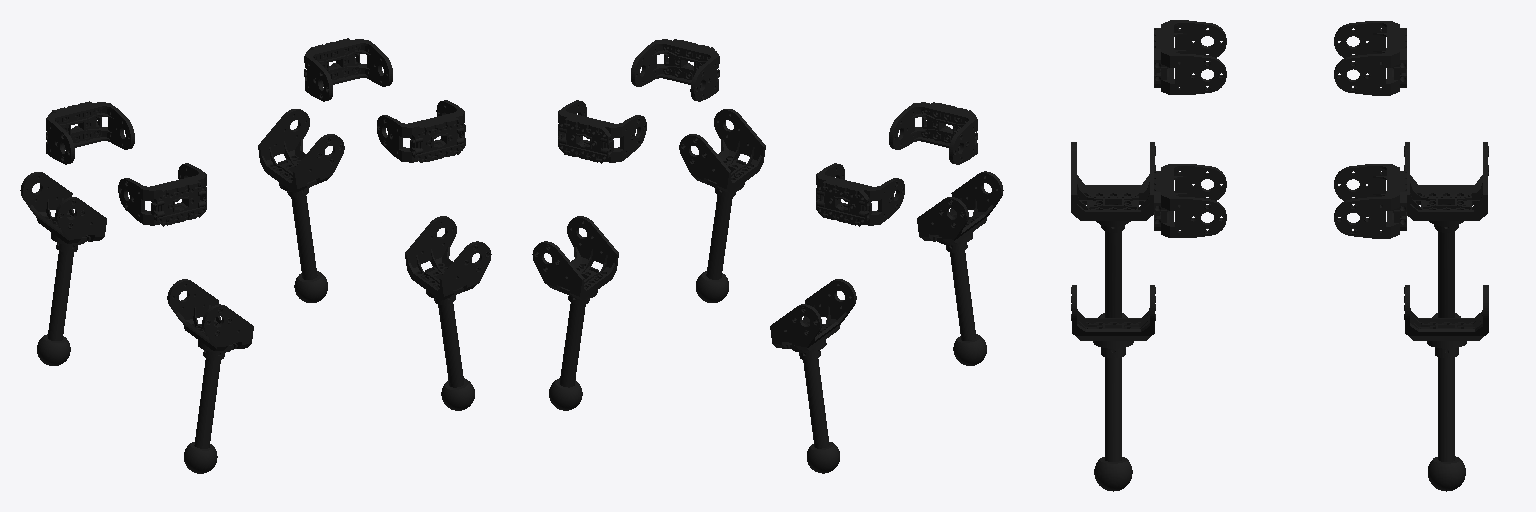
--- Render facts (derived) ---
Views: 3 orthographic renders of the robot side by side, from view 1: azimuth 30°, elevation 25°; view 2: azimuth 150°, elevation 25°; view 3: azimuth 270°, elevation 25°.
Model oped with 23 links and 22 joints (12 revolute, 10 fixed), rooted at base_link, posed every joint at zero.
Visible links, largest first — view 1: rf_lower_leg_link, lf_lower_leg_link, rh_lower_leg_link, lh_lower_leg_link, lh_hip_link, rh_hip_link, rf_hip_link, lf_hip_link; view 2: lf_lower_leg_link, rf_lower_leg_link, rh_lower_leg_link, lh_lower_leg_link, lh_hip_link, lf_hip_link, rh_hip_link, rf_hip_link; view 3: lf_lower_leg_link, rf_lower_leg_link, rh_lower_leg_link, lh_lower_leg_link, lh_hip_link, lf_hip_link, rh_hip_link, rf_hip_link.
Link boxes in pixels (bbox=[...]): rf_lower_leg_link: bbox=[405, 216, 491, 410]; lf_lower_leg_link: bbox=[258, 109, 344, 302]; rh_lower_leg_link: bbox=[167, 279, 253, 473]; lh_lower_leg_link: bbox=[20, 172, 106, 365]; lh_hip_link: bbox=[46, 101, 134, 164]; rh_hip_link: bbox=[118, 163, 206, 226]; rf_hip_link: bbox=[377, 100, 465, 162]; lf_hip_link: bbox=[304, 38, 392, 101]; lf_lower_leg_link: bbox=[532, 216, 618, 410]; rf_lower_leg_link: bbox=[679, 109, 765, 302]; rh_lower_leg_link: bbox=[917, 171, 1003, 365]; lh_lower_leg_link: bbox=[770, 279, 856, 473]; lh_hip_link: bbox=[816, 163, 904, 226]; lf_hip_link: bbox=[558, 100, 646, 163]; rh_hip_link: bbox=[889, 102, 977, 164]; rf_hip_link: bbox=[631, 39, 719, 101]; lf_lower_leg_link: bbox=[1404, 285, 1488, 491]; rf_lower_leg_link: bbox=[1071, 285, 1155, 491]; rh_lower_leg_link: bbox=[1071, 142, 1155, 317]; lh_lower_leg_link: bbox=[1404, 142, 1488, 317]; lh_hip_link: bbox=[1334, 21, 1406, 95]; lf_hip_link: bbox=[1334, 164, 1406, 238]; rh_hip_link: bbox=[1154, 20, 1226, 94]; rf_hip_link: bbox=[1154, 164, 1226, 237].
Size in the robot's own frame: 0.2427 by 0.2397 by 0.1951 metres.
Meshes: 5 distinct files referenced, 8 mesh visuals loaded (2 binary STL); not drawn: 5 (reference not matched to a file when rendering).

The robot description file, URDF, robot "oped":
<?xml version="1.0" encoding="utf-8"?>
<!-- =================================================================================== -->
<!-- |    This document was autogenerated by xacro from oped.urdf.xacro                | -->
<!-- |    EDITING THIS FILE BY HAND IS NOT RECOMMENDED                                 | -->
<!-- =================================================================================== -->
<robot name="oped">
  <material name="black">
    <color rgba="0.15 0.15 0.15 1.0"/>
  </material>
  <link name="base_link">
    <collision>
      <origin rpy="0 0 0" xyz="0 0 0"/>
      <geometry>
        <mesh filename="package://oped_description/meshes/stl/base_x.stl"/>
      </geometry>
    </collision>
    <visual>
      <origin rpy="0 0 0" xyz="0 0 0"/>
      <geometry>
        <mesh filename="package://oped_description/meshes/stl/base_x.stl"/>
      </geometry>
      <material name="black"/>
    </visual>
  </link>
  <link name="base_inertia">
    <inertial>
      <origin xyz="0 0 0"/>
      <mass value="0.7"/>
      <inertia ixx="0.00252956666667" ixy="0.0" ixz="0.0" iyy="0.00301373333333" iyz="0.0" izz="0.000876633333333"/>
    </inertial>
  </link>
  <joint name="base_link_to_base_inertia" type="fixed">
    <parent link="base_link"/>
    <child link="base_inertia"/>
    <origin rpy="0 0 0" xyz="0 0 0"/>
  </joint>
  <gazebo reference="base_link">
    <material>Gazebo/Orange</material>
  </gazebo>
  <!-- Init colour -->
  <material name="dark">
    <color rgba="0.3 0.3 0.3 1.0"/>
  </material>
  <material name="light_black">
    <color rgba="0.4 0.4 0.4 1.0"/>
  </material>
  <material name="blue">
    <color rgba="0.0 0.0 0.8 1.0"/>
  </material>
  <material name="green">
    <color rgba="0.0 0.8 0.0 1.0"/>
  </material>
  <material name="grey">
    <color rgba="0.5 0.5 0.5 1.0"/>
  </material>
  <material name="orange">
    <color rgba="1.0 0.423529411765 0.0392156862745 1.0"/>
  </material>
  <material name="brown">
    <color rgba="0.870588235294 0.811764705882 0.764705882353 1.0"/>
  </material>
  <material name="red">
    <color rgba="0.8 0.0 0.0 1.0"/>
  </material>
  <material name="white">
    <color rgba="1.0 1.0 1.0 1.0"/>
  </material>
  <!-- <gazebo reference="lidar_frame">
      <material>Gazebo/FlatBlack</material>
      <sensor type="ray" name="lds_lfcd_sensor">
	    <pose>0 0 0 0 0 0</pose>
	    <visualize>false</visualize>
	    <update_rate>5</update_rate>
	    <ray>
	      <scan>
	        <horizontal>
	          <samples>360</samples>
	          <resolution>1</resolution>
	          <min_angle>0.0</min_angle>
	          <max_angle>6.28319</max_angle>
	        </horizontal>
	      </scan>
	      <range>
	        <min>0.120</min>
          	<max>10.0</max>
          	<resolution>0.5</resolution>
	      </range>
	      <noise>
	        <type>gaussian</type>
	        <mean>0.0</mean>
	        <stddev>0.01</stddev>
	      </noise>
	    </ray>
	    <plugin name="gazebo_ros_lds_lfcd_controller" filename="libgazebo_ros_laser.so">
          <topicName>scan</topicName>
          <frameName>lidar_frame</frameName>
        </plugin>
      </sensor>
    </gazebo> -->
  <!-- <joint name="scan_joint" type="fixed">
        <parent link="base_link"/>
        <child link="lidar_frame"/>
        <origin xyz="-0.007 0 0.077" rpy="0 0 0"/>
    </joint> -->
  <!-- <link name="lidar_frame">
        <visual>
            <origin xyz="0.007 0 -0.067" rpy="0 0 0"/>
            <geometry>
              <mesh filename="package://oped_description/meshes/rplidar.dae"/>
            </geometry>
        </visual>
        <collision>
            <origin xyz="0 0 0.01" rpy="0 0 0"/>
            <geometry>
                <cylinder length="0.0315" radius="0.035"/>
            </geometry>
            <material name="dark"/>
        </collision>
        <inertial>
            <mass value="0.001" />
            <origin xyz="0 0 0" />
            <inertia ixx="0.000001" ixy="0.0" ixz="0.0"
                     iyy="0.000001" iyz="0.0"
                     izz="0.000001" />
        </inertial>
    </link> -->
  <gazebo>
    <plugin filename="libhector_gazebo_ros_imu.so" name="imu_controller">
      <robotNamespace>/</robotNamespace>
      <updateRate>50.0</updateRate>
      <bodyName>imu_link</bodyName>
      <topicName>imu_oped/data</topicName>
      <accelDrift>0.005 0.005 0.005</accelDrift>
      <accelGaussianNoise>0.005 0.005 0.005</accelGaussianNoise>
      <rateDrift>0.005 0.005 0.005 </rateDrift>
      <rateGaussianNoise>0.005 0.005 0.005 </rateGaussianNoise>
      <headingDrift>0.005</headingDrift>
      <headingGaussianNoise>0.005</headingGaussianNoise>
    </plugin>
  </gazebo>
  <link name="imu_link">
    <inertial>
      <mass value="0.001"/>
      <origin rpy="0 0 0" xyz="0 0 0"/>
      <inertia ixx="1e-09" ixy="0.0" ixz="0.0" iyy="1e-09" iyz="0.0" izz="1e-09"/>
    </inertial>
  </link>
  <joint name="imu_joint" type="fixed">
    <parent link="base_link"/>
    <child link="imu_link"/>
  </joint>
  <link name="lf_hip_debug_link"/>
  <link name="lf_hip_link">
    <inertial>
      <mass value="0.05"/>
      <inertia ixx="1.69770833333e-05" ixy="0.0" ixz="0.0" iyy="1.24052083333e-05" iyz="0.0" izz="9.78020833333e-06"/>
    </inertial>
    <collision>
      <origin rpy="0 0 -3.14159" xyz="0 0 0"/>
      <geometry>
        <mesh filename="package://oped_description/meshes/stl/hip.stl"/>
      </geometry>
    </collision>
    <visual>
      <origin rpy="0 0 -3.14159" xyz="0 0 0"/>
      <geometry>
        <mesh filename="package://oped_description/meshes/stl/hip.stl"/>
      </geometry>
      <material name="black"/>
    </visual>
  </link>
  <gazebo reference="lf_hip_link">
    <material>Gazebo/FlatBlack</material>
  </gazebo>
  <link name="lf_upper_leg_link">
    <inertial>
      <origin xyz="0 0 -0.03225"/>
      <mass value="0.025"/>
      <inertia ixx="1.98258541667e-05" ixy="0.0" ixz="0.0" iyy="8.90085416667e-06" iyz="0.0" izz="2.13416666667e-05"/>
    </inertial>
    <collision>
      <origin rpy="0 0 0" xyz="0 0 0"/>
      <geometry>
        <mesh filename="package://oped_description/meshes/stl/left_upper_leg.stl"/>
      </geometry>
    </collision>
    <visual>
      <origin rpy="0 0 0" xyz="0 0 0"/>
      <geometry>
        <mesh filename="package://oped_description/meshes/stl/left_upper_leg.stl"/>
      </geometry>
      <material name="black"/>
    </visual>
  </link>
  <gazebo reference="lf_upper_leg_link">
    <material>Gazebo/Orange</material>
  </gazebo>
  <link name="lf_lower_leg_link">
    <inertial>
      <origin xyz="0 0 -0.09285"/>
      <mass value="0.025"/>
      <inertia ixx="5.65146977721e-06" ixy="0.0" ixz="0.0" iyy="8.12310416667e-06" iyz="0.0" izz="3.23253227721e-06"/>
    </inertial>
    <collision>
      <origin rpy="0 0 0" xyz="0 0 0"/>
      <geometry>
        <mesh filename="package://oped_description/meshes/stl/lower_leg.stl"/>
      </geometry>
    </collision>
    <visual>
      <origin rpy="0 0 0" xyz="0 0 0"/>
      <geometry>
        <mesh filename="package://oped_description/meshes/stl/lower_leg.stl"/>
      </geometry>
      <material name="black"/>
    </visual>
  </link>
  <gazebo reference="lf_lower_leg_link">
    <kp>1000000.0</kp>
    <kd>1.0</kd>
    <mu1>0.8</mu1>
    <mu2>0.8</mu2>
    <maxVel>0.0</maxVel>
    <minDepth>0.001</minDepth>
    <material>Gazebo/FlatBlack</material>
  </gazebo>
  <link name="lf_foot_link"/>
  <joint name="lf_debug_joint" type="fixed">
    <parent link="base_link"/>
    <child link="lf_hip_debug_link"/>
    <origin rpy="0 0 0" xyz="0.099 0.04177 0"/>
  </joint>
  <joint name="lf_hip_joint" type="revolute">
    <axis xyz="1 0 0"/>
    <!-- <limit effort="1000" lower="-${pi}" upper="${pi}" velocity="1.5" /> -->
    <limit effort="1000" lower="-0.4" upper="0.4" velocity="1.5"/>
    <parent link="base_link"/>
    <child link="lf_hip_link"/>
    <origin rpy="0 0 0" xyz="0.099 0.04177 0"/>
  </joint>
  <joint name="lf_upper_leg_joint" type="revolute">
    <axis xyz="0 1 0"/>
    <!-- <limit effort="1000" lower="-${pi}" upper="${pi}" velocity="1.5" /> -->
    <limit effort="1000" lower="-2" upper="2" velocity="1.5"/>
    <!-- <limit effort="1000" lower="-0.68" upper="0.68" velocity="1.5" /> -->
    <parent link="lf_hip_link"/>
    <child link="lf_upper_leg_link"/>
    <origin rpy="0 0 0" xyz="0 0.052 0"/>
  </joint>
  <joint name="lf_lower_leg_joint" type="revolute">
    <axis xyz="0 1 0"/>
    <!-- <limit effort="1000" lower="-${pi}" upper="${pi}" velocity="1.5" /> -->
    <!-- <limit effort="1000" lower="-1.5" upper="0.5" velocity="1.5" /> -->
    <!-- <limit effort="1000" lower="-2.84" upper="0.54" velocity="1.5" /> -->
    <parent link="lf_upper_leg_link"/>
    <child link="lf_lower_leg_link"/>
    <limit effort="1000" lower="-3" upper="0.5" velocity="1.5"/>
    <origin rpy="0 0 0" xyz="0 0.0015 -0.0645"/>
  </joint>
  <joint name="lf_foot_joint" type="fixed">
    <parent link="lf_lower_leg_link"/>
    <child link="lf_foot_link"/>
    <origin rpy="0 0 0" xyz="0 0 -0.118"/>
  </joint>
  <transmission name="lf_hip_joint_trans">
    <type>transmission_interface/SimpleTransmission</type>
    <joint name="lf_hip_joint">
      <hardwareInterface>hardware_interface/EffortJointInterface</hardwareInterface>
    </joint>
    <actuator name="lf_hip_joint_motor">
      <hardwareInterface>hardware_interface/EffortJointInterface</hardwareInterface>
      <mechanicalReduction>1</mechanicalReduction>
    </actuator>
  </transmission>
  <transmission name="lf_upper_leg_joint_trans">
    <type>transmission_interface/SimpleTransmission</type>
    <joint name="lf_upper_leg_joint">
      <hardwareInterface>hardware_interface/EffortJointInterface</hardwareInterface>
    </joint>
    <actuator name="lf_upper_leg_joint_motor">
      <hardwareInterface>hardware_interface/EffortJointInterface</hardwareInterface>
      <mechanicalReduction>1</mechanicalReduction>
    </actuator>
  </transmission>
  <transmission name="lf_lower_leg_joint_trans">
    <type>transmission_interface/SimpleTransmission</type>
    <joint name="lf_lower_leg_joint">
      <hardwareInterface>hardware_interface/EffortJointInterface</hardwareInterface>
    </joint>
    <actuator name="lf_lower_joint_motor">
      <hardwareInterface>hardware_interface/EffortJointInterface</hardwareInterface>
      <mechanicalReduction>1</mechanicalReduction>
    </actuator>
  </transmission>
  <link name="lh_hip_debug_link"/>
  <link name="lh_hip_link">
    <inertial>
      <mass value="0.05"/>
      <inertia ixx="1.69770833333e-05" ixy="0.0" ixz="0.0" iyy="1.24052083333e-05" iyz="0.0" izz="9.78020833333e-06"/>
    </inertial>
    <collision>
      <origin rpy="0 0 -3.14159" xyz="0 0 0"/>
      <geometry>
        <mesh filename="package://oped_description/meshes/stl/hip.stl"/>
      </geometry>
    </collision>
    <visual>
      <origin rpy="0 0 -3.14159" xyz="0 0 0"/>
      <geometry>
        <mesh filename="package://oped_description/meshes/stl/hip.stl"/>
      </geometry>
      <material name="black"/>
    </visual>
  </link>
  <gazebo reference="lh_hip_link">
    <material>Gazebo/FlatBlack</material>
  </gazebo>
  <link name="lh_upper_leg_link">
    <inertial>
      <origin xyz="0 0 -0.03225"/>
      <mass value="0.025"/>
      <inertia ixx="1.98258541667e-05" ixy="0.0" ixz="0.0" iyy="8.90085416667e-06" iyz="0.0" izz="2.13416666667e-05"/>
    </inertial>
    <collision>
      <origin rpy="0 0 -3.14159" xyz="0 0 0"/>
      <geometry>
        <mesh filename="package://oped_description/meshes/stl/left_upper_leg.stl"/>
      </geometry>
    </collision>
    <visual>
      <origin rpy="0 0 -3.14159" xyz="0 0 0"/>
      <geometry>
        <mesh filename="package://oped_description/meshes/stl/left_upper_leg.stl"/>
      </geometry>
      <material name="black"/>
    </visual>
  </link>
  <gazebo reference="lh_upper_leg_link">
    <material>Gazebo/Orange</material>
  </gazebo>
  <link name="lh_lower_leg_link">
    <inertial>
      <origin xyz="0 0 -0.09285"/>
      <mass value="0.025"/>
      <inertia ixx="5.65146977721e-06" ixy="0.0" ixz="0.0" iyy="8.12310416667e-06" iyz="0.0" izz="3.23253227721e-06"/>
    </inertial>
    <collision>
      <origin rpy="0 0 -3.14159" xyz="0 0 0"/>
      <geometry>
        <mesh filename="package://oped_description/meshes/stl/lower_leg.stl"/>
      </geometry>
    </collision>
    <visual>
      <origin rpy="0 0 -3.14159" xyz="0 0 0"/>
      <geometry>
        <mesh filename="package://oped_description/meshes/stl/lower_leg.stl"/>
      </geometry>
      <material name="black"/>
    </visual>
  </link>
  <gazebo reference="lh_lower_leg_link">
    <kp>1000000.0</kp>
    <kd>1.0</kd>
    <mu1>0.8</mu1>
    <mu2>0.8</mu2>
    <maxVel>0.0</maxVel>
    <minDepth>0.001</minDepth>
    <material>Gazebo/FlatBlack</material>
  </gazebo>
  <link name="lh_foot_link"/>
  <joint name="lh_debug_joint" type="fixed">
    <parent link="base_link"/>
    <child link="lh_hip_debug_link"/>
    <origin rpy="0 0 0" xyz="-0.095 0.04177 0"/>
  </joint>
  <joint name="lh_hip_joint" type="revolute">
    <axis xyz="1 0 0"/>
    <!-- <limit effort="1000" lower="-${pi}" upper="${pi}" velocity="1.5" /> -->
    <limit effort="1000" lower="-0.4" upper="0.4" velocity="1.5"/>
    <parent link="base_link"/>
    <child link="lh_hip_link"/>
    <origin rpy="0 0 0" xyz="-0.095 0.04177 0"/>
  </joint>
  <joint name="lh_upper_leg_joint" type="revolute">
    <axis xyz="0 1 0"/>
    <!-- <limit effort="1000" lower="-${pi}" upper="${pi}" velocity="1.5" /> -->
    <limit effort="1000" lower="-2" upper="2" velocity="1.5"/>
    <!-- <limit effort="1000" lower="-0.68" upper="0.68" velocity="1.5" /> -->
    <parent link="lh_hip_link"/>
    <child link="lh_upper_leg_link"/>
    <origin rpy="0 0 0" xyz="0 0.052 0"/>
  </joint>
  <joint name="lh_lower_leg_joint" type="revolute">
    <axis xyz="0 1 0"/>
    <!-- <limit effort="1000" lower="-${pi}" upper="${pi}" velocity="1.5" /> -->
    <!-- <limit effort="1000" lower="-1.5" upper="0.5" velocity="1.5" /> -->
    <!-- <limit effort="1000" lower="-2.84" upper="0.54" velocity="1.5" /> -->
    <parent link="lh_upper_leg_link"/>
    <child link="lh_lower_leg_link"/>
    <limit effort="1000" lower="-0.5" upper="3" velocity="1.5"/>
    <origin rpy="0 0 0" xyz="0 0.0015 -0.0645"/>
  </joint>
  <joint name="lh_foot_joint" type="fixed">
    <parent link="lh_lower_leg_link"/>
    <child link="lh_foot_link"/>
    <origin rpy="0 0 0" xyz="0 0 -0.118"/>
  </joint>
  <transmission name="lh_hip_joint_trans">
    <type>transmission_interface/SimpleTransmission</type>
    <joint name="lh_hip_joint">
      <hardwareInterface>hardware_interface/EffortJointInterface</hardwareInterface>
    </joint>
    <actuator name="lh_hip_joint_motor">
      <hardwareInterface>hardware_interface/EffortJointInterface</hardwareInterface>
      <mechanicalReduction>1</mechanicalReduction>
    </actuator>
  </transmission>
  <transmission name="lh_upper_leg_joint_trans">
    <type>transmission_interface/SimpleTransmission</type>
    <joint name="lh_upper_leg_joint">
      <hardwareInterface>hardware_interface/EffortJointInterface</hardwareInterface>
    </joint>
    <actuator name="lh_upper_leg_joint_motor">
      <hardwareInterface>hardware_interface/EffortJointInterface</hardwareInterface>
      <mechanicalReduction>1</mechanicalReduction>
    </actuator>
  </transmission>
  <transmission name="lh_lower_leg_joint_trans">
    <type>transmission_interface/SimpleTransmission</type>
    <joint name="lh_lower_leg_joint">
      <hardwareInterface>hardware_interface/EffortJointInterface</hardwareInterface>
    </joint>
    <actuator name="lh_lower_joint_motor">
      <hardwareInterface>hardware_interface/EffortJointInterface</hardwareInterface>
      <mechanicalReduction>1</mechanicalReduction>
    </actuator>
  </transmission>
  <link name="rf_hip_debug_link"/>
  <link name="rf_hip_link">
    <inertial>
      <mass value="0.05"/>
      <inertia ixx="1.69770833333e-05" ixy="0.0" ixz="0.0" iyy="1.24052083333e-05" iyz="0.0" izz="9.78020833333e-06"/>
    </inertial>
    <collision>
      <origin rpy="0 0 0" xyz="0 0 0"/>
      <geometry>
        <mesh filename="package://oped_description/meshes/stl/hip.stl"/>
      </geometry>
    </collision>
    <visual>
      <origin rpy="0 0 0" xyz="0 0 0"/>
      <geometry>
        <mesh filename="package://oped_description/meshes/stl/hip.stl"/>
      </geometry>
      <material name="black"/>
    </visual>
  </link>
  <gazebo reference="rf_hip_link">
    <material>Gazebo/FlatBlack</material>
  </gazebo>
  <link name="rf_upper_leg_link">
    <inertial>
      <origin xyz="0 0 -0.03225"/>
      <mass value="0.025"/>
      <inertia ixx="1.98258541667e-05" ixy="0.0" ixz="0.0" iyy="8.90085416667e-06" iyz="0.0" izz="2.13416666667e-05"/>
    </inertial>
    <collision>
      <origin rpy="0 0 0" xyz="0 0 0"/>
      <geometry>
        <mesh filename="package://oped_description/meshes/stl/right_upper_leg.stl"/>
      </geometry>
    </collision>
    <visual>
      <origin rpy="0 0 0" xyz="0 0 0"/>
      <geometry>
        <mesh filename="package://oped_description/meshes/stl/right_upper_leg.stl"/>
      </geometry>
      <material name="black"/>
    </visual>
  </link>
  <gazebo reference="rf_upper_leg_link">
    <material>Gazebo/Orange</material>
  </gazebo>
  <link name="rf_lower_leg_link">
    <inertial>
      <origin xyz="0 0 -0.09285"/>
      <mass value="0.025"/>
      <inertia ixx="5.65146977721e-06" ixy="0.0" ixz="0.0" iyy="8.12310416667e-06" iyz="0.0" izz="3.23253227721e-06"/>
    </inertial>
    <collision>
      <origin rpy="0 0 0" xyz="0 0 0"/>
      <geometry>
        <mesh filename="package://oped_description/meshes/stl/lower_leg.stl"/>
      </geometry>
    </collision>
    <visual>
      <origin rpy="0 0 0" xyz="0 0 0"/>
      <geometry>
        <mesh filename="package://oped_description/meshes/stl/lower_leg.stl"/>
      </geometry>
      <material name="black"/>
    </visual>
  </link>
  <gazebo reference="rf_lower_leg_link">
    <kp>1000000.0</kp>
    <kd>1.0</kd>
    <mu1>0.8</mu1>
    <mu2>0.8</mu2>
    <maxVel>0.0</maxVel>
    <minDepth>0.001</minDepth>
    <material>Gazebo/FlatBlack</material>
  </gazebo>
  <link name="rf_foot_link"/>
  <joint name="rf_debug_joint" type="fixed">
    <parent link="base_link"/>
    <child link="rf_hip_debug_link"/>
    <origin rpy="0 0 0" xyz="0.099 -0.04177 0"/>
  </joint>
  <joint name="rf_hip_joint" type="revolute">
    <axis xyz="1 0 0"/>
    <!-- <limit effort="1000" lower="-${pi}" upper="${pi}" velocity="1.5" /> -->
    <limit effort="1000" lower="-0.4" upper="0.4" velocity="1.5"/>
    <parent link="base_link"/>
    <child link="rf_hip_link"/>
    <origin rpy="0 0 0" xyz="0.099 -0.04177 0"/>
  </joint>
  <joint name="rf_upper_leg_joint" type="revolute">
    <axis xyz="0 1 0"/>
    <!-- <limit effort="1000" lower="-${pi}" upper="${pi}" velocity="1.5" /> -->
    <limit effort="1000" lower="-2" upper="2" velocity="1.5"/>
    <!-- <limit effort="1000" lower="-0.68" upper="0.68" velocity="1.5" /> -->
    <parent link="rf_hip_link"/>
    <child link="rf_upper_leg_link"/>
    <origin rpy="0 0 0" xyz="0 -0.052 0"/>
  </joint>
  <joint name="rf_lower_leg_joint" type="revolute">
    <axis xyz="0 1 0"/>
    <!-- <limit effort="1000" lower="-${pi}" upper="${pi}" velocity="1.5" /> -->
    <!-- <limit effort="1000" lower="-1.5" upper="0.5" velocity="1.5" /> -->
    <!-- <limit effort="1000" lower="-2.84" upper="0.54" velocity="1.5" /> -->
    <parent link="rf_upper_leg_link"/>
    <child link="rf_lower_leg_link"/>
    <limit effort="1000" lower="-3" upper="0.5" velocity="1.5"/>
    <origin rpy="0 0 0" xyz="0 -0.002 -0.0645"/>
  </joint>
  <joint name="rf_foot_joint" type="fixed">
    <parent link="rf_lower_leg_link"/>
    <child link="rf_foot_link"/>
    <origin rpy="0 0 0" xyz="0 0 -0.118"/>
  </joint>
  <transmission name="rf_hip_joint_trans">
    <type>transmission_interface/SimpleTransmission</type>
    <joint name="rf_hip_joint">
      <hardwareInterface>hardware_interface/EffortJointInterface</hardwareInterface>
    </joint>
    <actuator name="rf_hip_joint_motor">
      <hardwareInterface>hardware_interface/EffortJointInterface</hardwareInterface>
      <mechanicalReduction>1</mechanicalReduction>
    </actuator>
  </transmission>
  <transmission name="rf_upper_leg_joint_trans">
    <type>transmission_interface/SimpleTransmission</type>
    <joint name="rf_upper_leg_joint">
      <hardwareInterface>hardware_interface/EffortJointInterface</hardwareInterface>
    </joint>
    <actuator name="rf_upper_leg_joint_motor">
      <hardwareInterface>hardware_interface/EffortJointInterface</hardwareInterface>
      <mechanicalReduction>1</mechanicalReduction>
    </actuator>
  </transmission>
  <transmission name="rf_lower_leg_joint_trans">
    <type>transmission_interface/SimpleTransmission</type>
    <joint name="rf_lower_leg_joint">
      <hardwareInterface>hardware_interface/EffortJointInterface</hardwareInterface>
    </joint>
    <actuator name="rf_lower_joint_motor">
      <hardwareInterface>hardware_interface/EffortJointInterface</hardwareInterface>
      <mechanicalReduction>1</mechanicalReduction>
    </actuator>
  </transmission>
  <link name="rh_hip_debug_link"/>
  <link name="rh_hip_link">
    <inertial>
      <mass value="0.05"/>
      <inertia ixx="1.69770833333e-05" ixy="0.0" ixz="0.0" iyy="1.24052083333e-05" iyz="0.0" izz="9.78020833333e-06"/>
    </inertial>
    <collision>
      <origin rpy="0 0 0" xyz="0 0 0"/>
      <geometry>
        <mesh filename="package://oped_description/meshes/stl/hip.stl"/>
      </geometry>
    </collision>
    <visual>
      <origin rpy="0 0 0" xyz="0 0 0"/>
      <geometry>
        <mesh filename="package://oped_description/meshes/stl/hip.stl"/>
      </geometry>
      <material name="black"/>
    </visual>
  </link>
  <gazebo reference="rh_hip_link">
    <material>Gazebo/FlatBlack</material>
  </gazebo>
  <link name="rh_upper_leg_link">
    <inertial>
      <origin xyz="0 0 -0.03225"/>
      <mass value="0.025"/>
      <inertia ixx="1.98258541667e-05" ixy="0.0" ixz="0.0" iyy="8.90085416667e-06" iyz="0.0" izz="2.13416666667e-05"/>
    </inertial>
    <collision>
      <origin rpy="0 0 -3.14159" xyz="0 0 0"/>
      <geometry>
        <mesh filename="package://oped_description/meshes/stl/right_upper_leg.stl"/>
      </geometry>
    </collision>
    <visual>
      <origin rpy="0 0 -3.14159" xyz="0 0 0"/>
      <geometry>
        <mesh filename="package://oped_description/meshes/stl/right_upper_leg.stl"/>
      </geometry>
      <material name="black"/>
    </visual>
  </link>
  <gazebo reference="rh_upper_leg_link">
    <material>Gazebo/Orange</material>
  </gazebo>
  <link name="rh_lower_leg_link">
    <inertial>
      <origin xyz="0 0 -0.09285"/>
      <mass value="0.025"/>
      <inertia ixx="5.65146977721e-06" ixy="0.0" ixz="0.0" iyy="8.12310416667e-06" iyz="0.0" izz="3.23253227721e-06"/>
    </inertial>
    <collision>
      <origin rpy="0 0 -3.14159" xyz="0 0 0"/>
      <geometry>
        <mesh filename="package://oped_description/meshes/stl/lower_leg.stl"/>
      </geometry>
    </collision>
    <visual>
      <origin rpy="0 0 -3.14159" xyz="0 0 0"/>
      <geometry>
        <mesh filename="package://oped_description/meshes/stl/lower_leg.stl"/>
      </geometry>
      <material name="black"/>
    </visual>
  </link>
  <gazebo reference="rh_lower_leg_link">
    <kp>1000000.0</kp>
    <kd>1.0</kd>
    <mu1>0.8</mu1>
    <mu2>0.8</mu2>
    <maxVel>0.0</maxVel>
    <minDepth>0.001</minDepth>
    <material>Gazebo/FlatBlack</material>
  </gazebo>
  <link name="rh_foot_link"/>
  <joint name="rh_debug_joint" type="fixed">
    <parent link="base_link"/>
    <child link="rh_hip_debug_link"/>
    <origin rpy="0 0 0" xyz="-0.095 -0.04177 0"/>
  </joint>
  <joint name="rh_hip_joint" type="revolute">
    <axis xyz="1 0 0"/>
    <!-- <limit effort="1000" lower="-${pi}" upper="${pi}" velocity="1.5" /> -->
    <limit effort="1000" lower="-0.4" upper="0.4" velocity="1.5"/>
    <parent link="base_link"/>
    <child link="rh_hip_link"/>
    <origin rpy="0 0 0" xyz="-0.095 -0.04177 0"/>
  </joint>
  <joint name="rh_upper_leg_joint" type="revolute">
    <axis xyz="0 1 0"/>
    <!-- <limit effort="1000" lower="-${pi}" upper="${pi}" velocity="1.5" /> -->
    <limit effort="1000" lower="-2" upper="2" velocity="1.5"/>
    <!-- <limit effort="1000" lower="-0.68" upper="0.68" velocity="1.5" /> -->
    <parent link="rh_hip_link"/>
    <child link="rh_upper_leg_link"/>
    <origin rpy="0 0 0" xyz="0 -0.052 0"/>
  </joint>
  <joint name="rh_lower_leg_joint" type="revolute">
    <axis xyz="0 1 0"/>
    <!-- <limit effort="1000" lower="-${pi}" upper="${pi}" velocity="1.5" /> -->
    <!-- <limit effort="1000" lower="-1.5" upper="0.5" velocity="1.5" /> -->
    <!-- <limit effort="1000" lower="-2.84" upper="0.54" velocity="1.5" /> -->
    <parent link="rh_upper_leg_link"/>
    <child link="rh_lower_leg_link"/>
    <limit effort="1000" lower="-0.5" upper="3" velocity="1.5"/>
    <origin rpy="0 0 0" xyz="0 -0.002 -0.0645"/>
  </joint>
  <joint name="rh_foot_joint" type="fixed">
    <parent link="rh_lower_leg_link"/>
    <child link="rh_foot_link"/>
    <origin rpy="0 0 0" xyz="0 0 -0.118"/>
  </joint>
  <transmission name="rh_hip_joint_trans">
    <type>transmission_interface/SimpleTransmission</type>
    <joint name="rh_hip_joint">
      <hardwareInterface>hardware_interface/EffortJointInterface</hardwareInterface>
    </joint>
    <actuator name="rh_hip_joint_motor">
      <hardwareInterface>hardware_interface/EffortJointInterface</hardwareInterface>
      <mechanicalReduction>1</mechanicalReduction>
    </actuator>
  </transmission>
  <transmission name="rh_upper_leg_joint_trans">
    <type>transmission_interface/SimpleTransmission</type>
    <joint name="rh_upper_leg_joint">
      <hardwareInterface>hardware_interface/EffortJointInterface</hardwareInterface>
    </joint>
    <actuator name="rh_upper_leg_joint_motor">
      <hardwareInterface>hardware_interface/EffortJointInterface</hardwareInterface>
      <mechanicalReduction>1</mechanicalReduction>
    </actuator>
  </transmission>
  <transmission name="rh_lower_leg_joint_trans">
    <type>transmission_interface/SimpleTransmission</type>
    <joint name="rh_lower_leg_joint">
      <hardwareInterface>hardware_interface/EffortJointInterface</hardwareInterface>
    </joint>
    <actuator name="rh_lower_joint_motor">
      <hardwareInterface>hardware_interface/EffortJointInterface</hardwareInterface>
      <mechanicalReduction>1</mechanicalReduction>
    </actuator>
  </transmission>
  <gazebo>
    <plugin filename="libgazebo_ros_p3d.so" name="p3d_base_controller">
      <alwaysOn>true</alwaysOn>
      <updateRate>10.0</updateRate>
      <bodyName>base_link</bodyName>
      <topicName>odom/ground_truth</topicName>
      <gaussianNoise>0.01</gaussianNoise>
      <frameName>world</frameName>
      <xyzOffsets>0 0 0</xyzOffsets>
      <rpyOffsets>0 0 0</rpyOffsets>
    </plugin>
  </gazebo>
  <gazebo>
    <plugin filename="libgazebo_ros_control.so" name="gazebo_ros_control">
      <!-- <legacyModeNS>true</legacyModeNS> -->
      <robotNamespace>/oped</robotNamespace>
      <robotSimType>gazebo_ros_control/DefaultRobotHWSim</robotSimType>
    </plugin>
  </gazebo>
</robot>
